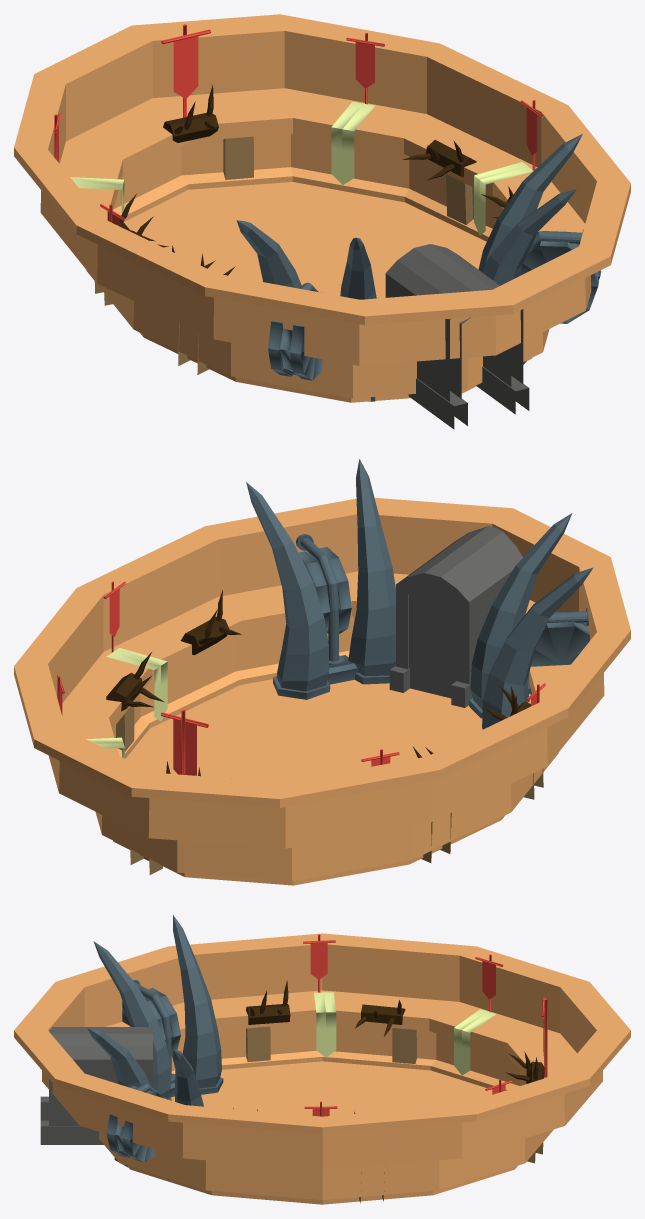
File: Goblin Arena Small.fbx
3 views of the same model, one above another, from view 1: azimuth 30°, elevation 25°; view 2: azimuth 150°, elevation 25°; view 3: azimuth 270°, elevation 25° (orthographic). The views are drawn at different scales.
Parts seen in each view (by area): view 1: Arena, Mechanism, Portal, FlagPole, Flags, WoodSpikes, Pillars; view 2: Arena, Mechanism, Portal, WoodSpikes, FlagPole, Flags, Pillars; view 3: Arena, Mechanism, Portal, Flags, WoodSpikes, FlagPole, Pillars.
Boxes of the visible parts, left/top/right/bottom form: Arena: left=14, top=14, right=630, bottom=402; Mechanism: left=236, top=134, right=601, bottom=401; Portal: left=385, top=244, right=529, bottom=429; FlagPole: left=54, top=24, right=543, bottom=226; Flags: left=70, top=101, right=533, bottom=235; WoodSpikes: left=119, top=84, right=513, bottom=275; Pillars: left=94, top=136, right=472, bottom=374; Arena: left=14, top=498, right=630, bottom=885; Mechanism: left=246, top=459, right=593, bottom=729; Portal: left=389, top=526, right=522, bottom=707; WoodSpikes: left=106, top=590, right=530, bottom=776; FlagPole: left=56, top=581, right=545, bottom=775; Flags: left=86, top=648, right=167, bottom=758; Pillars: left=116, top=706, right=543, bottom=874; Arena: left=14, top=933, right=630, bottom=1204; Mechanism: left=87, top=915, right=223, bottom=1167; Portal: left=40, top=1027, right=152, bottom=1144; Flags: left=314, top=992, right=495, bottom=1075; WoodSpikes: left=233, top=980, right=544, bottom=1113; FlagPole: left=303, top=934, right=547, bottom=1116; Pillars: left=246, top=1026, right=543, bottom=1203.
Size of the model in its own units: 3625 by 1366 by 4874.
